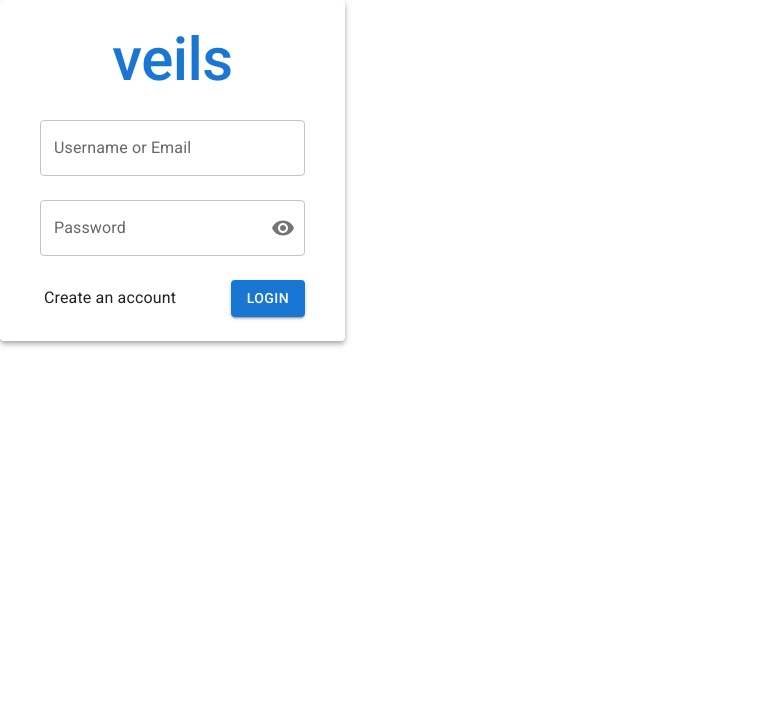
Test: LoginForm › long password
# long password login
Type "demo" into the field labelled "Username or Email" at (172, 148), box [40,120,305,176]
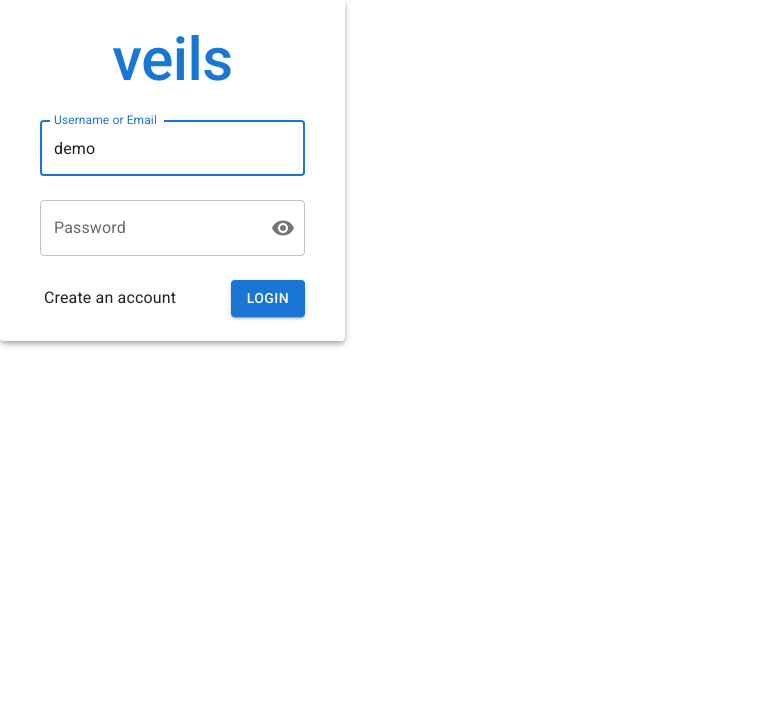
Type "asdfasdfasdfasdfasdfasdfasdfasdfasdfasdfasdfasdfasdfasdfasdfasdfx" into the password field labelled "Password" at (148, 228), box [40,200,255,256]
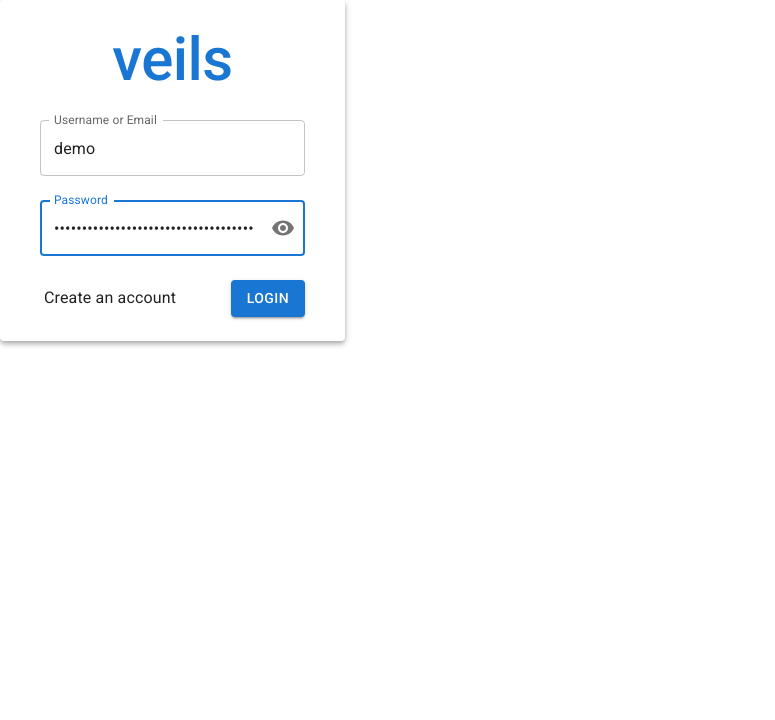
Click the button "Login" at (268, 298), box [231,280,305,316]
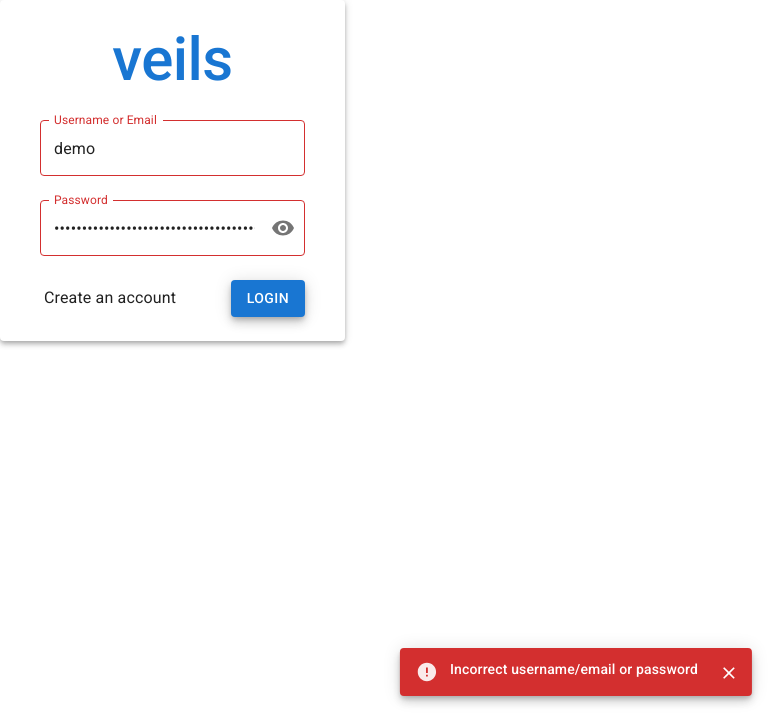
Check: the text "Incorrect username/email or password" is shown, box [450,661,698,677]
